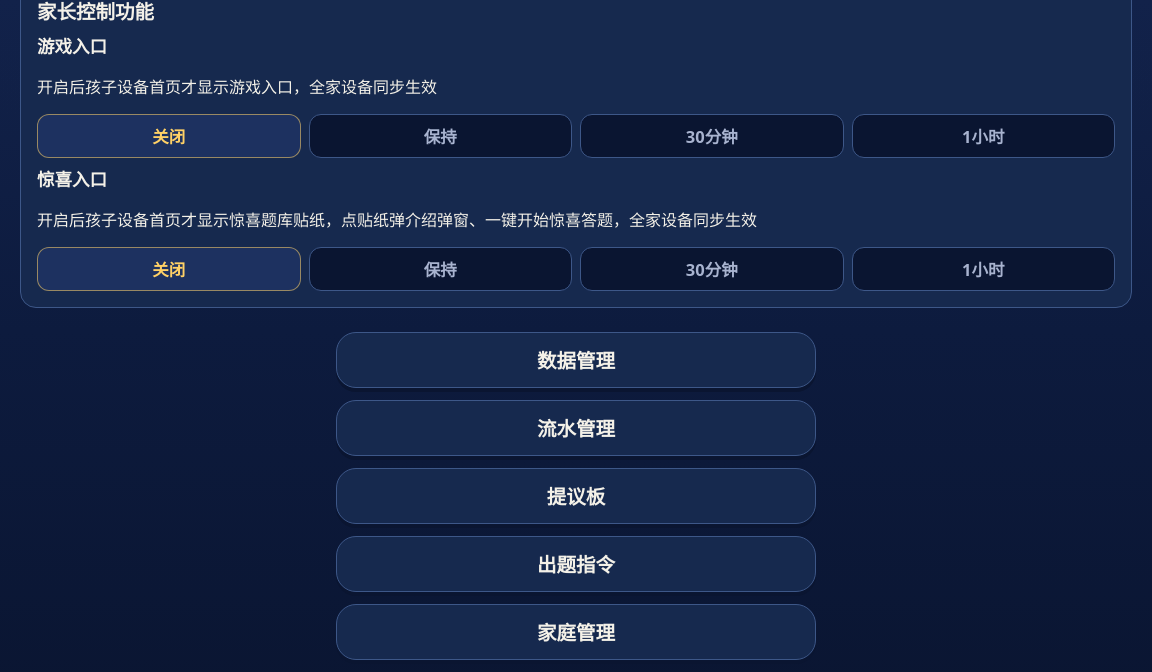
it: AC3 数据管理弹窗（T6，AC3-1 ~ AC3-13） › AC3-1 弹窗打开与内容：标题/说明/导出/导入/关闭按钮
This screenshot has width=1152, height=672.
Step 1. Click the button "数据管理" → click(576, 360), box [336,332,816,388]
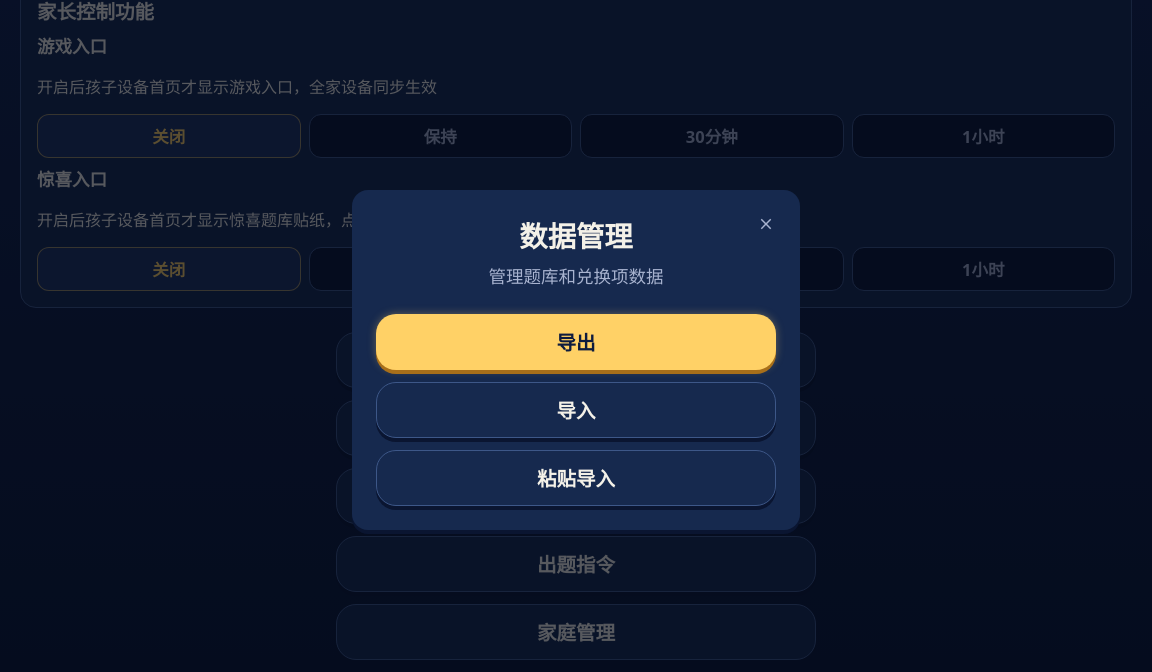
expect the heading with class "star-modal__title" reads "数据管理": met, box [519,217,633,255]
expect the dialog with class "star-modal" shows "管理题库和兑换项数据": met, box [488,264,664,288]
expect the button with class "btn-export" reads "导出": met, box [376,314,776,370]
